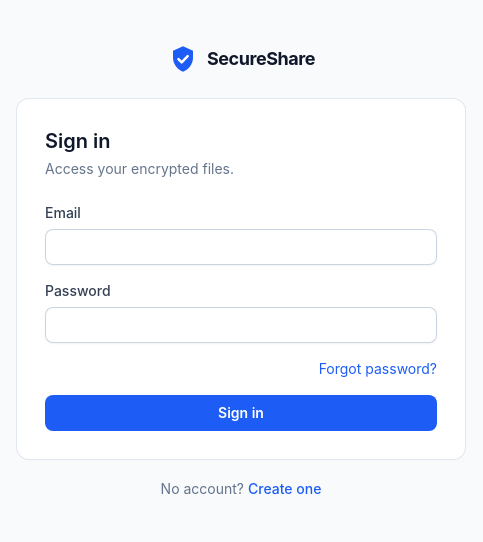
Test: Login › shows a rate-limit message rather than a generic failure
This screenshot has width=483, height=542.
Type "user@example.com" into the field labelled "Email".
click(241, 247); type("user@example.com")  # box [45,229,437,265]
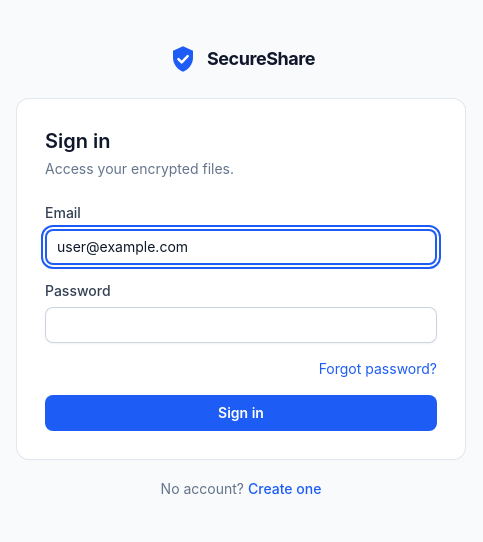
Type "Whatever123!" into the password field labelled "Password".
click(241, 325); type("Whatever123!")  # box [45,307,437,343]
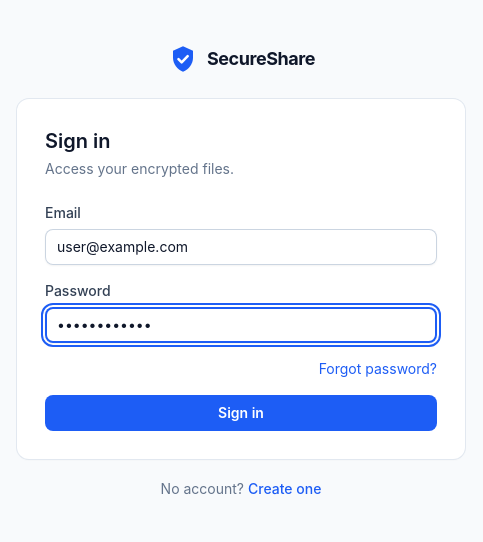
Click the button "Sign in".
click(241, 413)  # box [45,395,437,431]
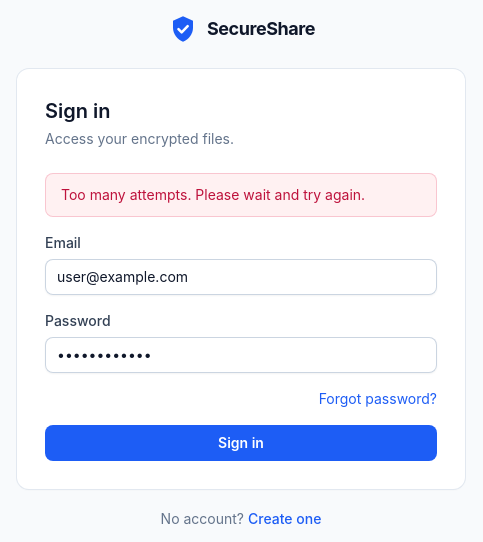
Now the message shows "Too many attempts", box [61,186,365,203]
